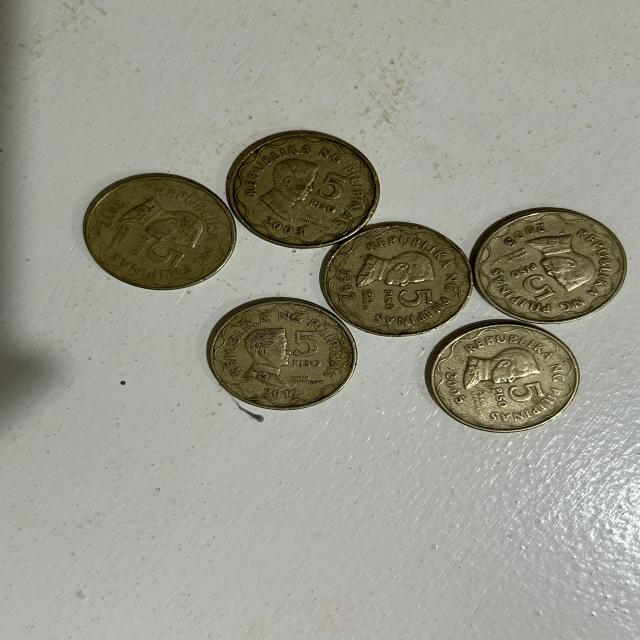5_Old_Front: (120, 237, 197, 281), (504, 260, 561, 306), (376, 287, 439, 318), (488, 382, 550, 413), (311, 167, 349, 213), (291, 329, 326, 374)
